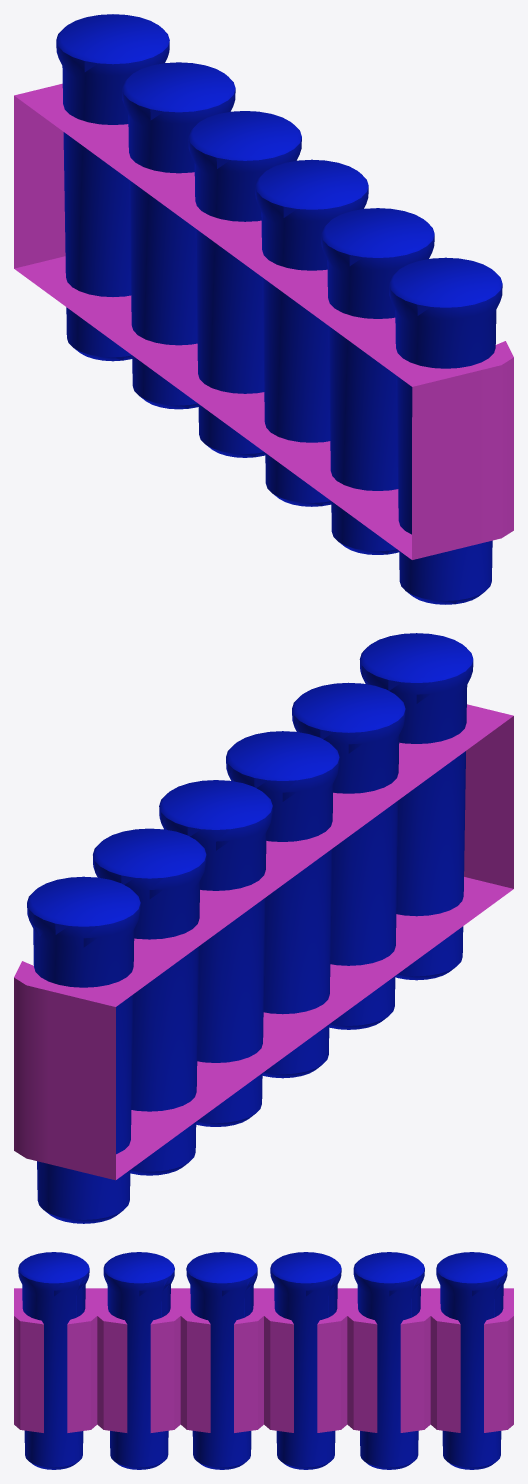
Rendered from Brash_Whisper_Shell_Rack.fbx.
The picture shows the model from 3 angles, top to bottom: view 1: azimuth 30°, elevation 25°; view 2: azimuth 150°, elevation 25°; view 3: azimuth 270°, elevation 25°; orthographic projection. The views are drawn at different scales.
Visible parts, largest first — view 1: ShellRackShells, ShellRack; view 2: ShellRackShells, ShellRack; view 3: ShellRackShells, ShellRack.
Boxes of the visible parts, x1,y1,x2,y2 form: ShellRackShells: [56, 14, 502, 604]; ShellRack: [14, 83, 513, 559]; ShellRackShells: [27, 633, 473, 1223]; ShellRack: [14, 704, 513, 1180]; ShellRackShells: [18, 1252, 507, 1469]; ShellRack: [14, 1288, 513, 1432].
Size of the model in its own units: 2.91 by 7.3 by 17.05.
